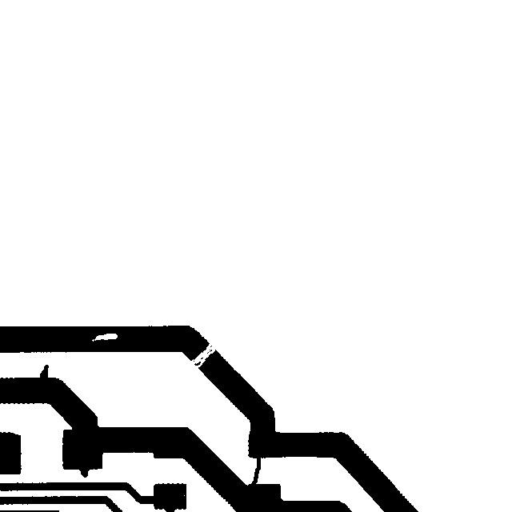open: (179, 335, 222, 375)
pin-hole: (84, 326, 125, 349)
short: (243, 445, 268, 494)
spur: (68, 456, 98, 485), (32, 357, 56, 386)
